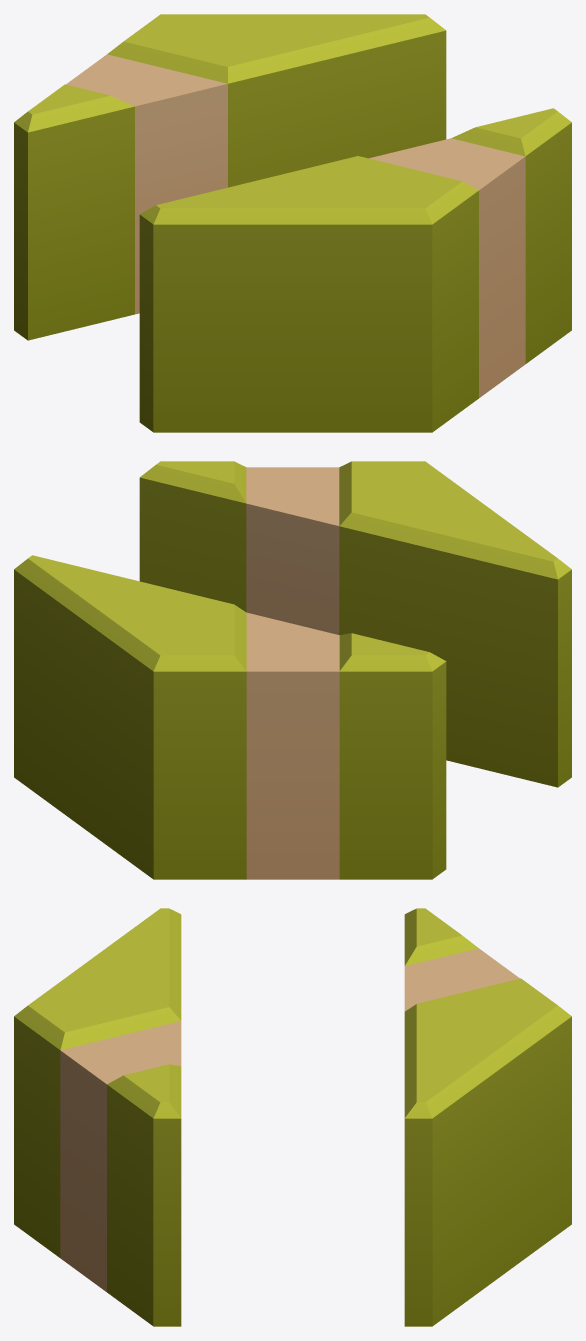
File: hex_river_crossing_A_waterless.glb
3 views of the same model, one above another, from view 1: azimuth 30°, elevation 25°; view 2: azimuth 150°, elevation 25°; view 3: azimuth 270°, elevation 25° (orthographic).
Visible parts, largest first — view 1: hex_river_crossing_A_waterless; view 2: hex_river_crossing_A_waterless; view 3: hex_river_crossing_A_waterless.
Boxes of the visible parts, left/top/right/bottom form: hex_river_crossing_A_waterless: left=14, top=14, right=571, bottom=432; hex_river_crossing_A_waterless: left=14, top=461, right=571, bottom=879; hex_river_crossing_A_waterless: left=14, top=908, right=571, bottom=1326.
Size of the model in its own units: 2 by 1 by 2.31.
1 material, 1 textured.
